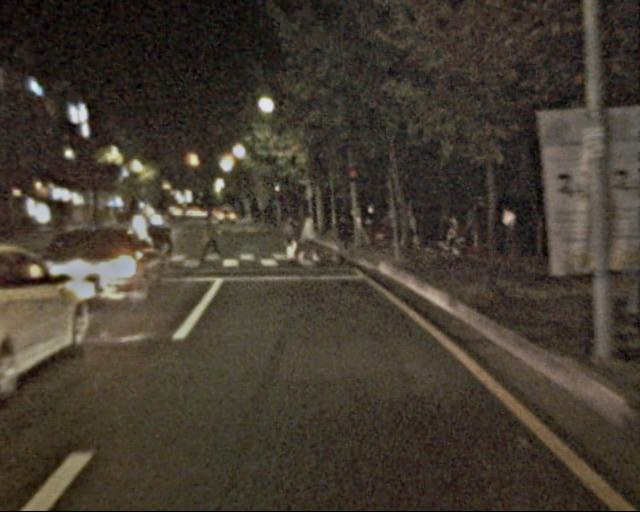person: (197, 210, 224, 269), (151, 211, 176, 271), (279, 213, 303, 266), (300, 212, 323, 266), (460, 205, 483, 255), (400, 208, 422, 259), (335, 211, 355, 266)
